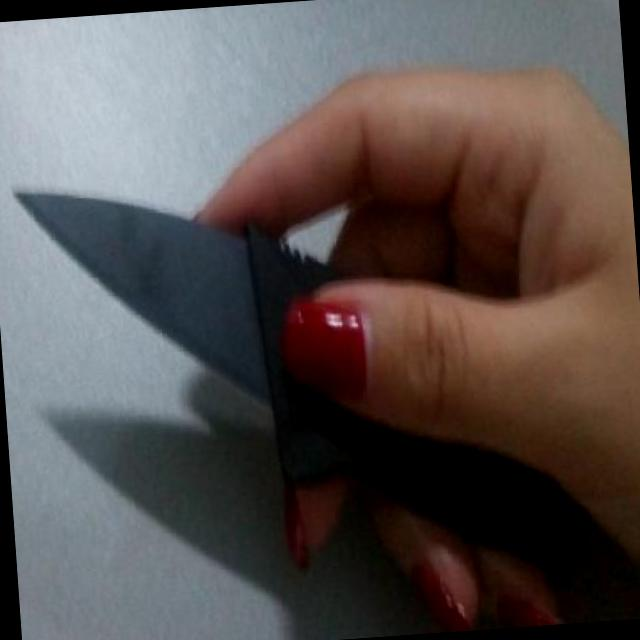knife: (0, 141, 394, 514)
